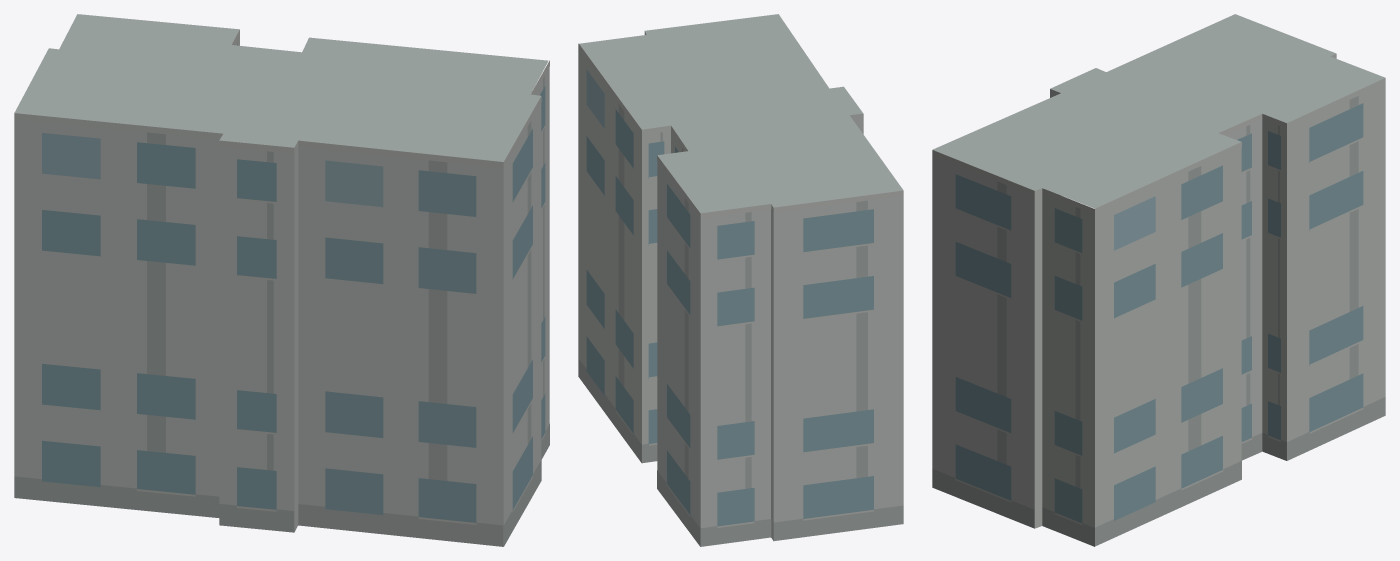
The model's file is survey-upis-32625252.glb.
3 views of the same model, side by side, from view 1: azimuth 30°, elevation 25°; view 2: azimuth 150°, elevation 25°; view 3: azimuth 270°, elevation 25° (orthographic). The views are drawn at different scales.
Parts seen in each view (by area): view 1: survey-upis-32625252.tmp; view 2: survey-upis-32625252.tmp; view 3: survey-upis-32625252.tmp.
Boxes of the visible parts, <box> form: survey-upis-32625252.tmp: <box>14,14,549,546</box>; survey-upis-32625252.tmp: <box>578,14,903,546</box>; survey-upis-32625252.tmp: <box>932,14,1385,546</box>.
Bounding box in the file's own units: 18.59 × 15 × 18.25.
